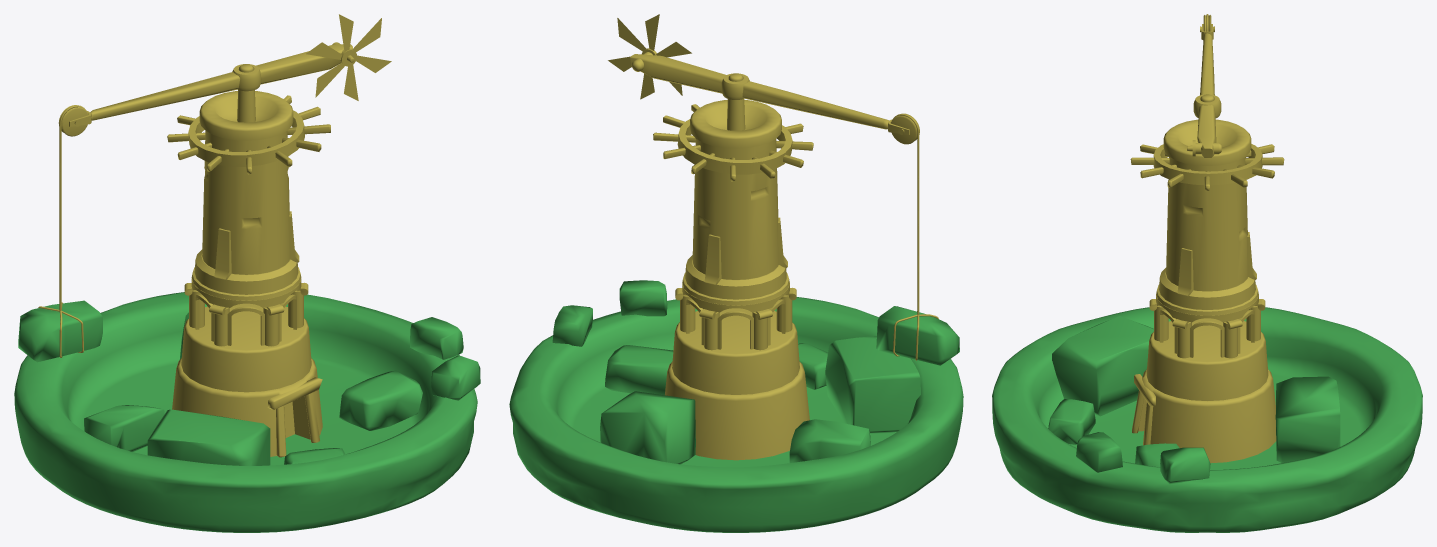
The model's file is SM_StoneBuilding_Resource_Carrer.fbx.
3 views of the same model, side by side, from view 1: azimuth 30°, elevation 25°; view 2: azimuth 150°, elevation 25°; view 3: azimuth 270°, elevation 25° (orthographic). The views are drawn at different scales.
Parts seen in each view (by area): view 1: Carrer_03_Low1; view 2: Carrer_03_Low1; view 3: Carrer_03_Low1.
Part boxes in pixels (x1=…): Carrer_03_Low1: x1=14, y1=14, x2=480, y2=532; Carrer_03_Low1: x1=509, y1=14, x2=963, y2=532; Carrer_03_Low1: x1=992, y1=14, x2=1422, y2=532.
Size of the model in its own units: 696 by 650 by 661.
